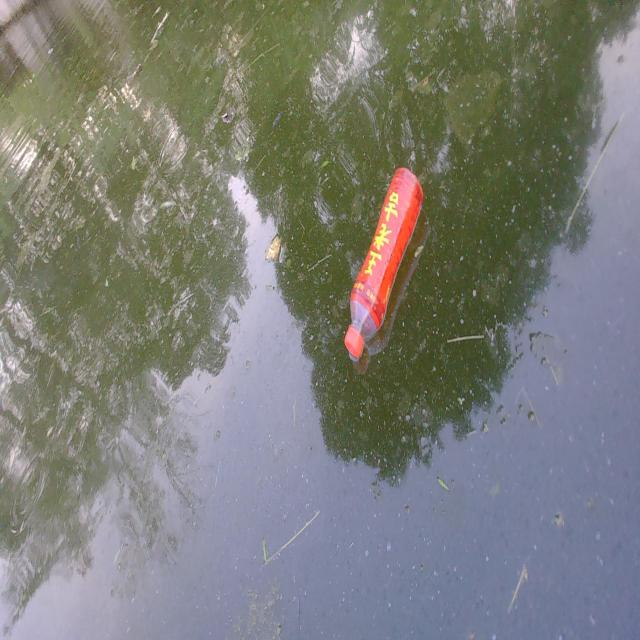Bottle: (343, 160, 424, 360)
